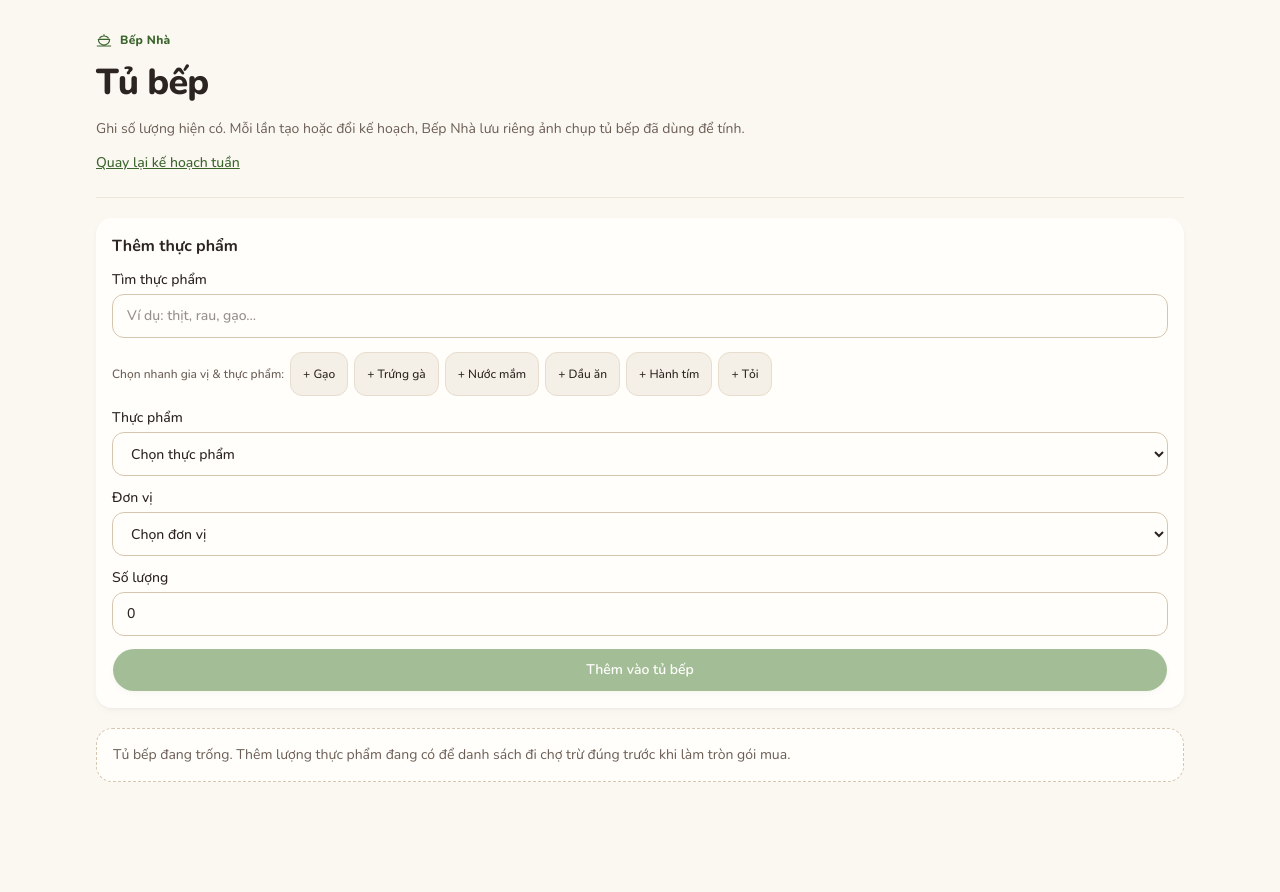
Scenario: PantryPage › does not remember failed writes
The image size is (1280, 892).
Expected: the heading "Tủ bếp" is shown, [96,58,208,107]
Click the button "+ Gạo". click: {"x": 319, "y": 374}
box: [290,352,348,396]
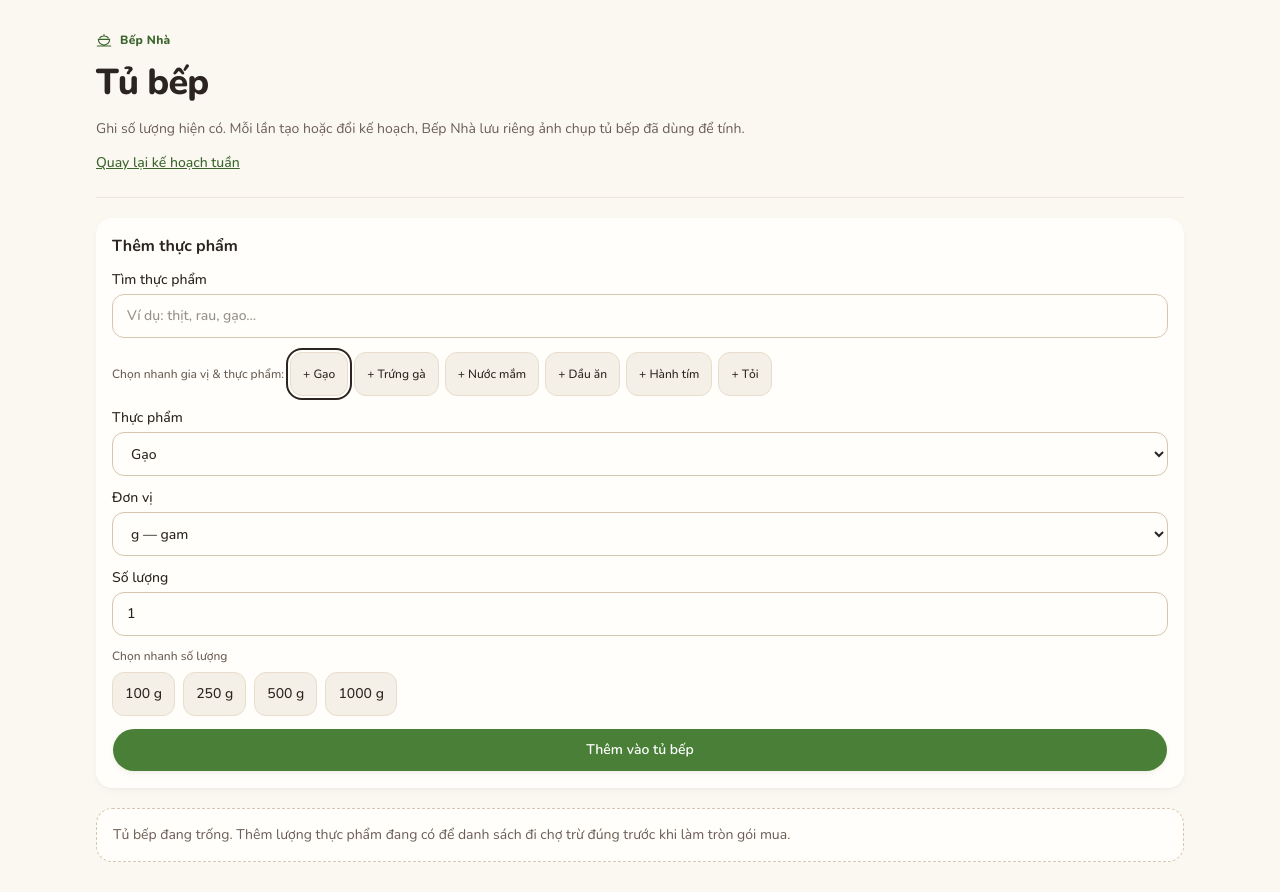
Click the button "Thêm vào tủ bếp". click: {"x": 640, "y": 750}
box: [112,728,1168,772]
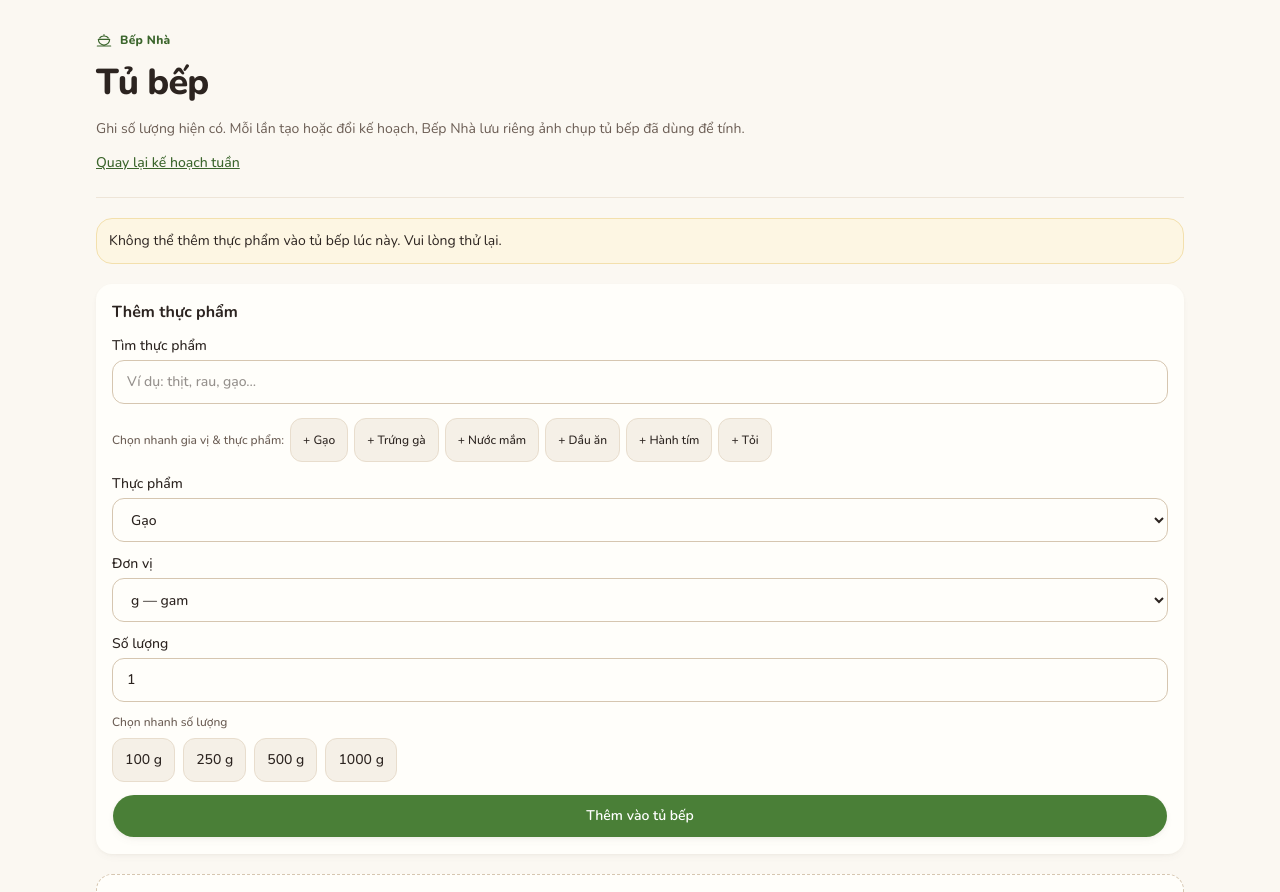
Expected: the message shows "Không thể thêm", [109,231,502,250]
